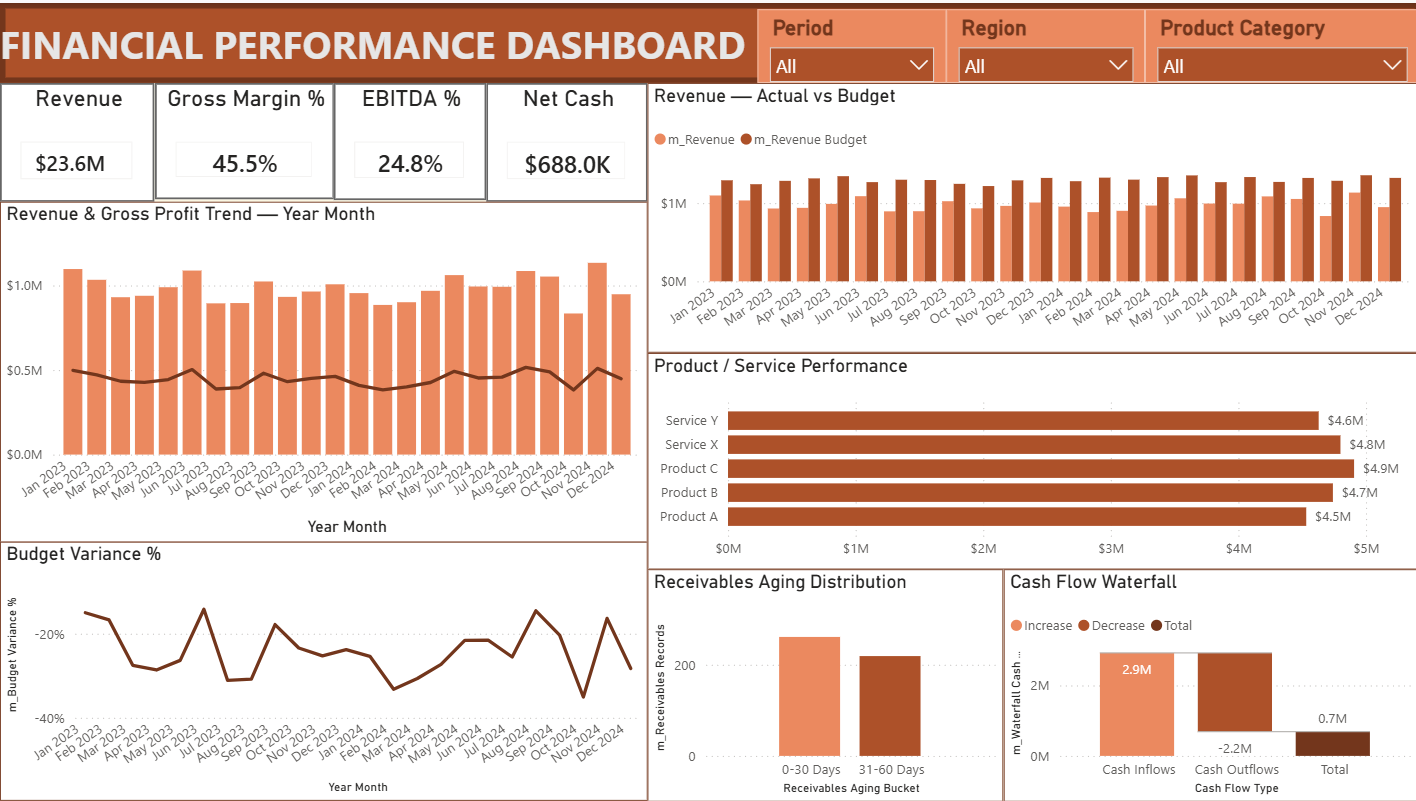

Layout of this report page (visuals, bound fields, positions):
{"tool":"powerbi","page":{"name":"Page 1","canvas":[1280,720],"ordinal":0},"visuals":[{"type":"shape","box":[0,0,1280.3,72.1],"z":0},{"type":"slicer","fields":{"Values":["DimMonth.Date Hierarchy.Year","DimMonth.Date Hierarchy.Quarter","DimMonth.Date Hierarchy.Year Month"]},"box":[683,5.4,170.1,66.7],"z":1000},{"type":"slicer","fields":{"Values":["DimRegion.Region"]},"box":[853.1,5.4,179.6,66.7],"z":2000},{"type":"slicer","fields":{"Values":["DimProduct.Product Category"]},"box":[1032.7,5.4,247.6,66.7],"z":3000},{"type":"cardVisual","title":"Revenue","fields":{"Data":["FactFinancial.m_Revenue"]},"box":[0,72.1,139.5,107],"z":4000},{"type":"cardVisual","title":"Gross Margin %","fields":{"Data":["FactFinancial.m_Gross Margin %"]},"box":[139.5,72.1,161.6,104.7],"z":5000},{"type":"cardVisual","title":"Net Cash","fields":{"Data":["FactFinancial.m_Net Cash"]},"box":[438.4,72.1,145.3,107],"z":6000},{"type":"cardVisual","title":"EBITDA %","fields":{"Data":["FactFinancial.m_EBITDA %"]},"box":[301.2,72.1,137.2,105.8],"z":7000},{"type":"lineClusteredColumnComboChart","title":"Revenue & Gross Profit Trend — Year Month","fields":{"Category":["DimMonth.Date Hierarchy.Year","DimMonth.Date Hierarchy.Quarter","DimMonth.Date Hierarchy.Year Month"],"Y":["FactFinancial.m_Revenue"],"Y2":["FactFinancial.m_Gross Profit"]},"box":[0,179.1,583.7,307],"z":8000},{"type":"lineClusteredColumnComboChart","title":"Revenue — Actual vs Budget","fields":{"Category":["DimMonth.Year Month"],"Y":["FactFinancial.m_Revenue","FactFinancial.m_Revenue Budget"]},"box":[583.7,72.1,696.5,243],"z":9000},{"type":"lineChart","title":"Budget Variance %","fields":{"Category":["DimMonth.Year Month"],"Y":["FactFinancial.m_Budget Variance %"]},"box":[0,486,583.7,233.7],"z":10000},{"type":"clusteredBarChart","title":"Product / Service Performance","fields":{"Category":["DimProduct.Product Category Hierarchy.Product Category","DimProduct.Product Category Hierarchy.Product/Service"],"Y":["FactFinancial.m_Revenue"]},"box":[583.7,315.1,696.5,195.3],"z":11000},{"type":"clusteredColumnChart","title":"Receivables Aging Distribution","fields":{"Category":["FactFinancial.Receivables Aging Bucket"],"Y":["FactFinancial.m_Receivables Records"]},"box":[583.7,510.5,320.9,209.3],"z":12000},{"type":"waterfallChart","title":"Cash Flow Waterfall","fields":{"Y":["Cash Flow Type.m_Waterfall Cash Flow"],"Category":["Cash Flow Type.Cash Flow Type"]},"box":[904.7,510.5,375.6,209.3],"z":13000}]}

Visuals, with their boxes in screenshot pixels (x1, y1, x2, y2), scaled from the page's 1280x720 canvas onto the 1416x801 screenshot:
shape: 0:0:1415:80
slicer - DimMonth.Date Hierarchy.Year x DimMonth.Date Hierarchy.Quarter: 756:6:944:80
slicer - DimRegion.Region: 944:6:1142:80
slicer - DimProduct.Product Category: 1142:6:1415:80
"Revenue" cardVisual: 0:80:154:199
"Gross Margin %" cardVisual: 154:80:333:197
"Net Cash" cardVisual: 485:80:646:199
"EBITDA %" cardVisual: 333:80:485:198
"Revenue & Gross Profit Trend — Year Month" lineClusteredColumnComboChart: 0:199:646:541
"Revenue — Actual vs Budget" lineClusteredColumnComboChart: 646:80:1415:351
"Budget Variance %" lineChart: 0:541:646:800
"Product / Service Performance" clusteredBarChart: 646:351:1415:568
"Receivables Aging Distribution" clusteredColumnChart: 646:568:1001:800
"Cash Flow Waterfall" waterfallChart: 1001:568:1415:800
